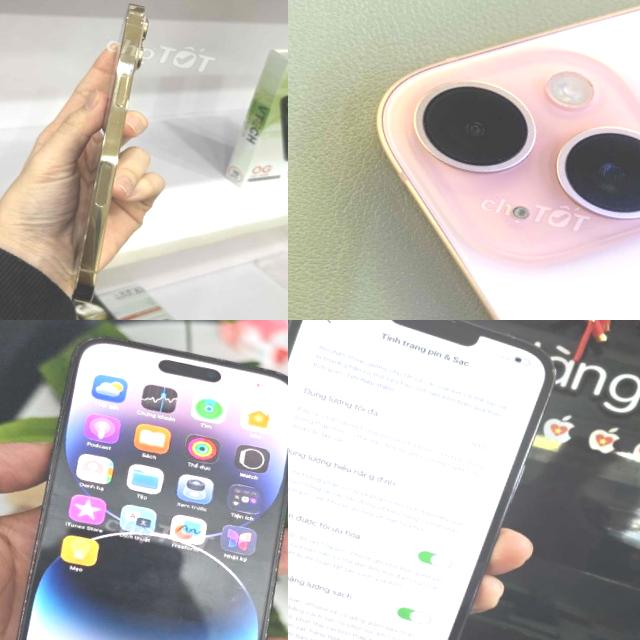gen_12_13: (288, 320, 569, 640), (51, 0, 173, 307)
gen_14: (0, 320, 288, 640)
gen_15: (288, 0, 640, 320)
scratch: (0, 390, 83, 640), (231, 509, 288, 640), (66, 320, 112, 365), (288, 320, 313, 390)
